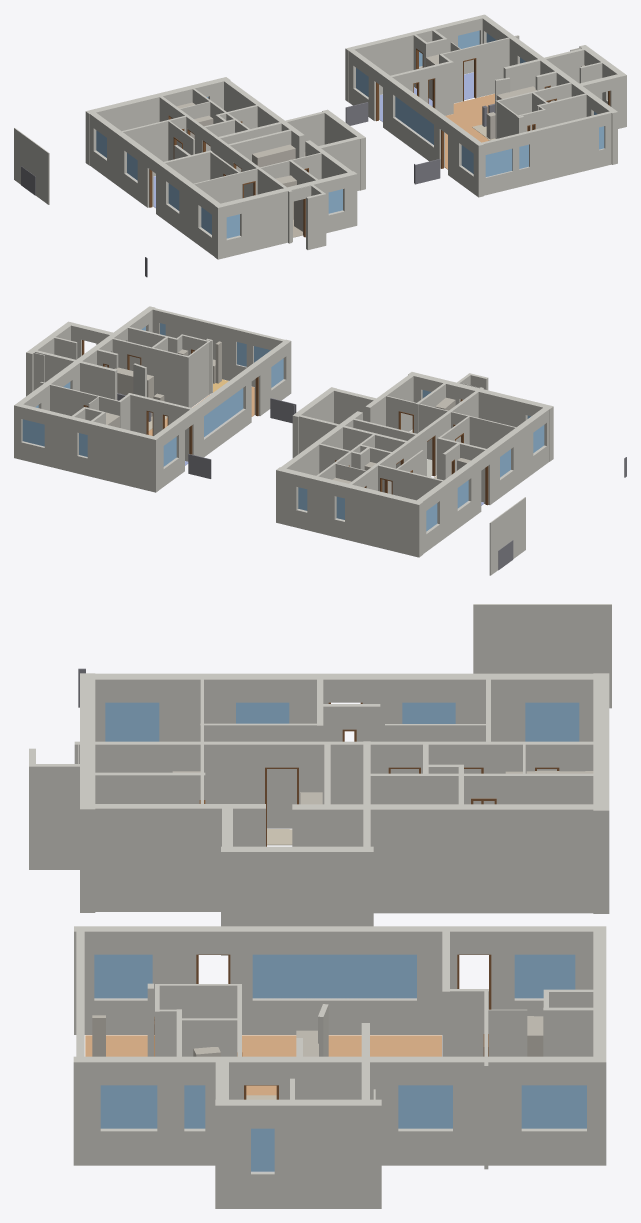
The picture shows the model from 3 angles, top to bottom: view 1: azimuth 30°, elevation 25°; view 2: azimuth 150°, elevation 25°; view 3: azimuth 270°, elevation 25°; orthographic projection. The views are drawn at different scales.
Visible parts, largest first — view 1: walls, railings, floor_9_Living_Room, window_17, furniture_6_closet, window_30, floor_3_Bed_Room; view 2: walls, railings, window_17, furniture_7_closet, window_2; view 3: walls, window_17, floor_9_Living_Room, window_31, window_5, window_0, window_8, window_12, window_3, window_4, window_6, window_1 (+2 smaller).
Part boxes in pixels (x1=…): walls: x1=14, y1=14, x2=626, y2=259; railings: x1=21, y1=102, x2=495, y2=277; floor_9_Living_Room: x1=445, y1=93, x2=494, y2=169; window_17: x1=395, y1=96, x2=433, y2=144; furniture_6_closet: x1=252, y1=144, x2=295, y2=167; window_30: x1=485, y1=149, x2=512, y2=176; floor_3_Bed_Room: x1=380, y1=72, x2=473, y2=121; walls: x1=14, y1=306, x2=553, y2=575; railings: x1=117, y1=393, x2=626, y2=570; window_17: x1=204, y1=388, x2=243, y2=436; furniture_7_closet: x1=114, y1=367, x2=153, y2=416; window_2: x1=22, y1=419, x2=44, y2=446; walls: x1=29, y1=604, x2=611, y2=1208; window_17: x1=252, y1=954, x2=416, y2=998; floor_9_Living_Room: x1=85, y1=1035, x2=441, y2=1095; window_31: x1=521, y1=1085, x2=586, y2=1128; window_5: x1=94, y1=954, x2=152, y2=998; window_0: x1=100, y1=1085, x2=157, y2=1128; window_8: x1=514, y1=954, x2=575, y2=998; window_12: x1=398, y1=1085, x2=452, y2=1128; window_3: x1=105, y1=702, x2=159, y2=741; window_4: x1=525, y1=702, x2=579, y2=741; window_6: x1=402, y1=702, x2=455, y2=723; window_1: x1=236, y1=702, x2=289, y2=723.
Bounding box in the file's own units: 28.1 × 2.72 × 13.79.
